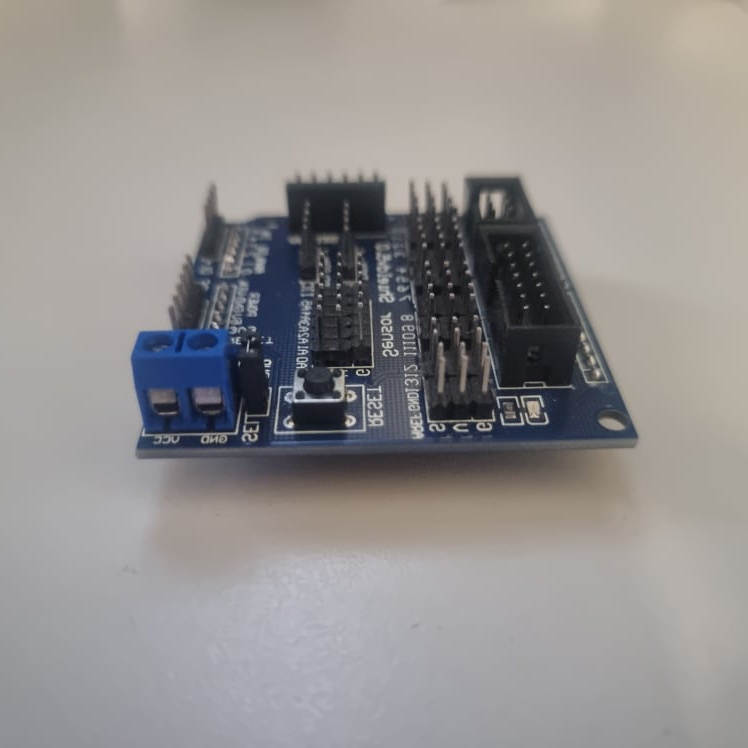5V EXPANSION: (125, 156, 640, 457)
